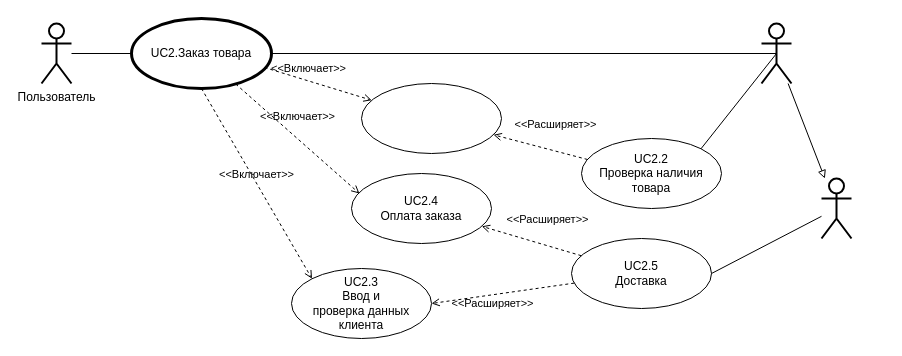
The diagram is 902 pixels wide and 356 high, and some of its shapes have lost their labels. The box of each missing label's shape, as (x1, y1, x2, y2) in pixels:
UC2.1 Добавление товара в корзину: (360, 82, 502, 154)
Магазин: (760, 22, 792, 84)
Служба доставки: (820, 177, 852, 239)
